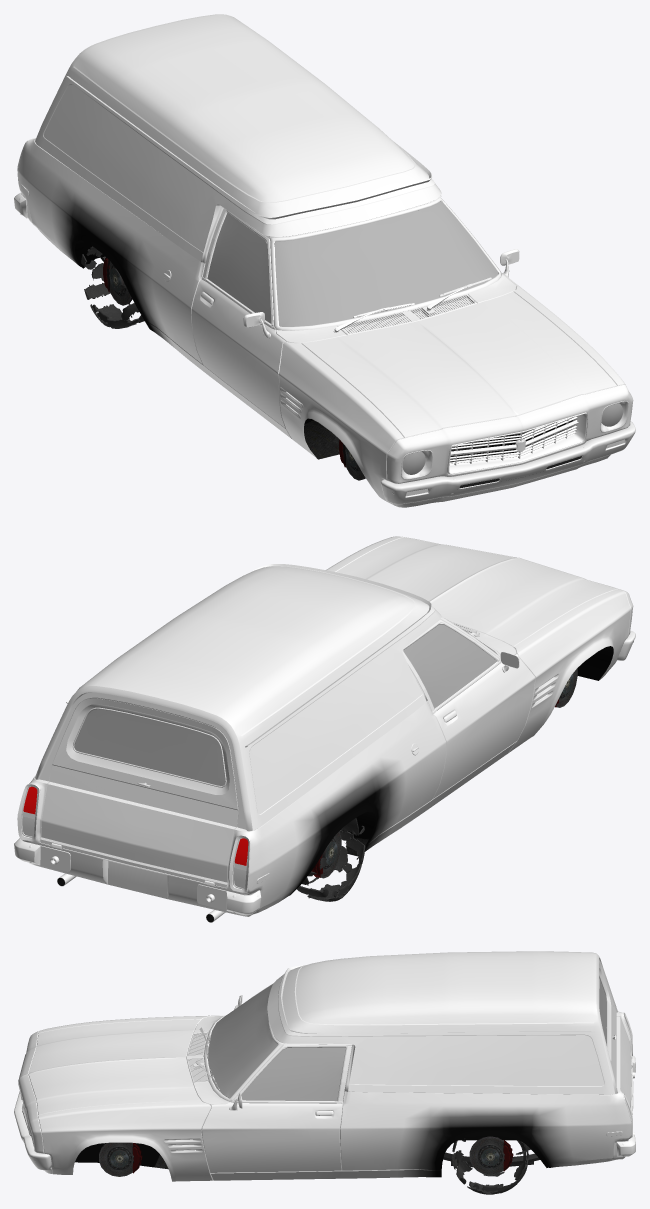
Rendered from 63_SANDMAN.fbx.
3 renders of one model, top to bottom at view 1: azimuth 30°, elevation 25°; view 2: azimuth 150°, elevation 25°; view 3: azimuth 270°, elevation 25°, orthographic. The views are drawn at different scales.
Visible parts, largest first — view 1: Body_Canopy, Body_Duco, Body_Kit_00, Body_Glass, Body_Chrome, Undercarrage; view 2: Body_Canopy, Body_Duco, Body_Kit_00, Body_Glass_Canopy, Body_Chrome, Body_Glass, Undercarrage, Body_Canopy_Matte, Body_Gloss, BrakeLights, Rotor; view 3: Body_Duco, Body_Canopy, Body_Kit_00, Body_Glass, Body_Chrome, Rotor (×2), Undercarrage.
Part boxes in pixels (x1,y1,x2,y2): Body_Canopy: (35,14,441,263); Body_Duco: (18,138,633,507); Body_Kit_00: (301,291,617,438); Body_Glass: (207,201,623,474); Body_Chrome: (14,138,635,504); Undercarrage: (75,240,581,488); Body_Canopy: (35,564,441,831); Body_Duco: (22,536,633,916); Body_Kit_00: (336,537,616,646); Body_Glass_Canopy: (74,709,225,785); Body_Chrome: (14,616,635,922); Body_Glass: (403,620,497,708); Undercarrage: (57,646,613,922); Body_Canopy_Matte: (73,707,226,787); Body_Gloss: (22,626,479,887); BrakeLights: (23,786,248,865); Rotor: (320,831,341,878); Body_Duco: (18,1011,632,1181); Body_Canopy: (267,951,617,1094); Body_Kit_00: (28,1019,201,1115); Body_Glass: (208,984,345,1101); Body_Chrome: (14,983,635,1170); Rotor (×2): (99,1136,504,1176); Undercarrage: (22,1111,539,1169).
Bounding box in the file's own units: 1.94 × 1.52 × 4.83.
